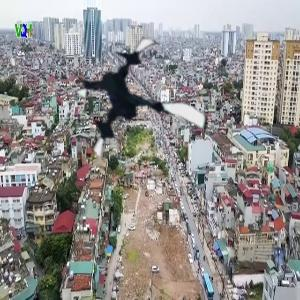drone: (68, 35, 213, 180)
